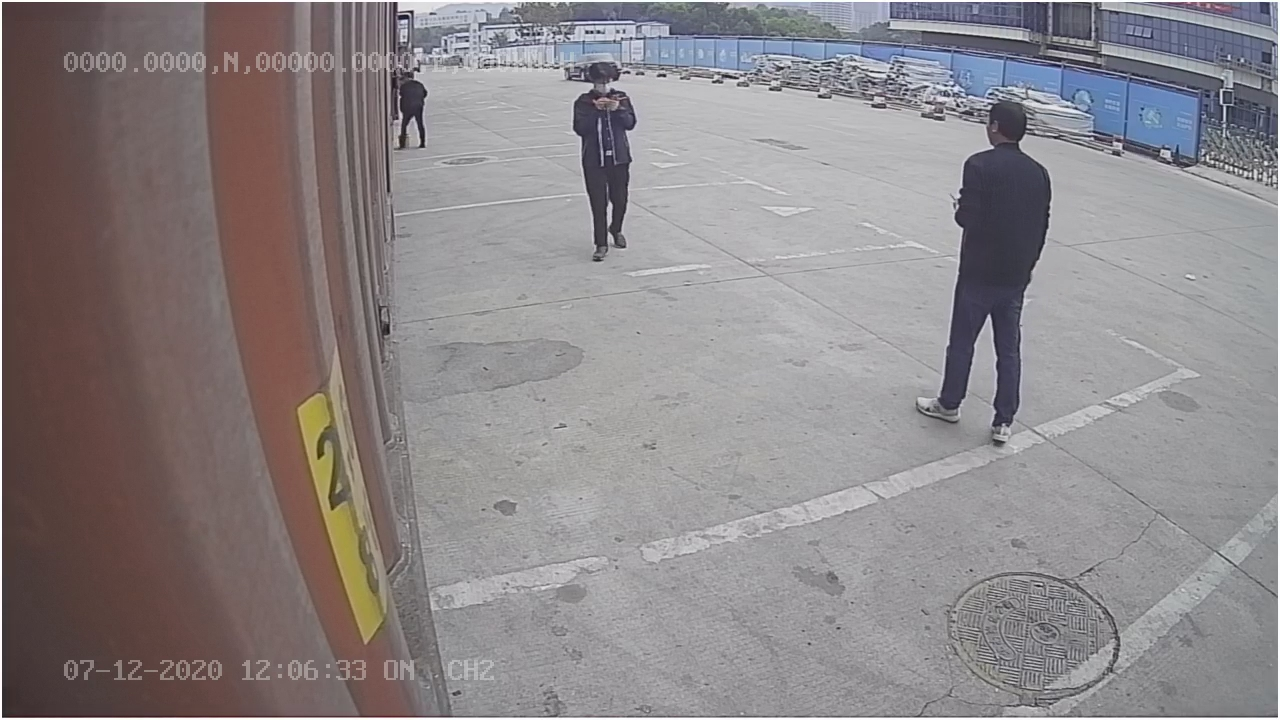person: (911, 90, 1057, 444)
